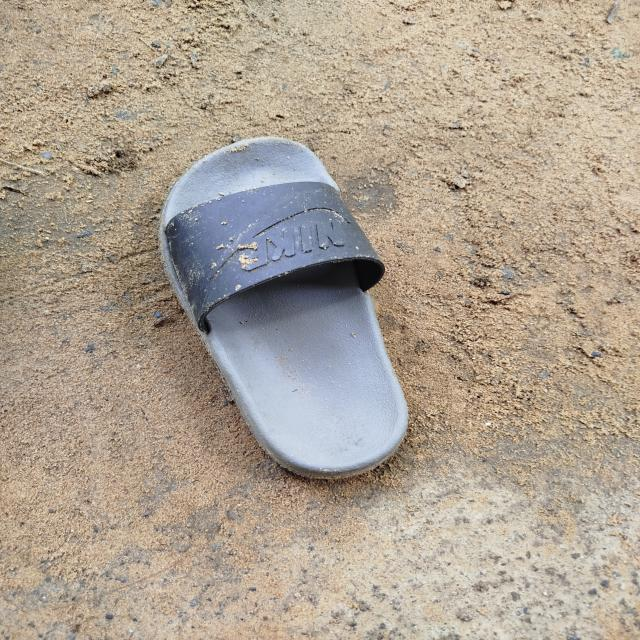residual: (149, 120, 438, 506)
